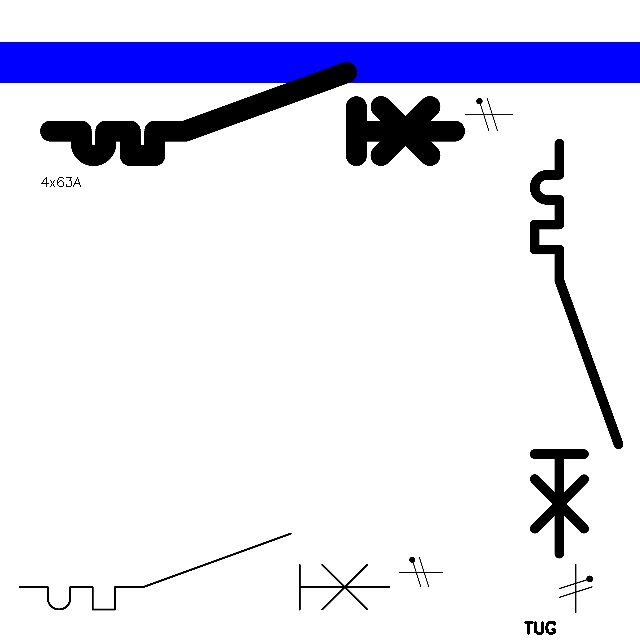interruptor_termomagnetico: (524, 133, 629, 564), (40, 62, 465, 166), (10, 524, 399, 619)
